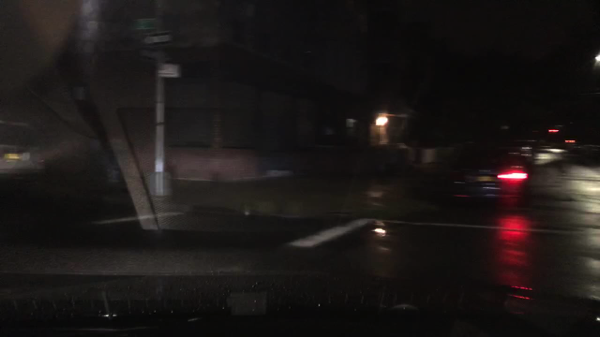car: (447, 143, 528, 207), (0, 119, 48, 185), (496, 138, 535, 162), (568, 135, 599, 162)
traffic sign: (136, 45, 172, 63), (144, 31, 173, 46), (156, 64, 180, 78), (133, 19, 156, 30)
